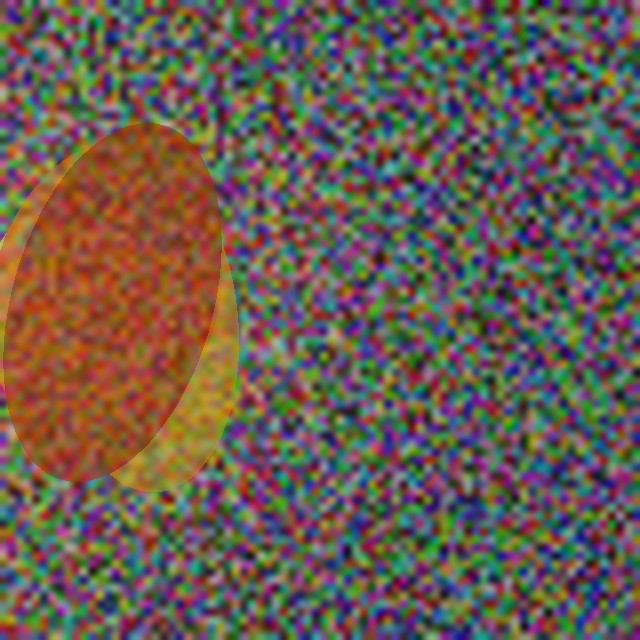fire: (39, 170, 195, 464)
